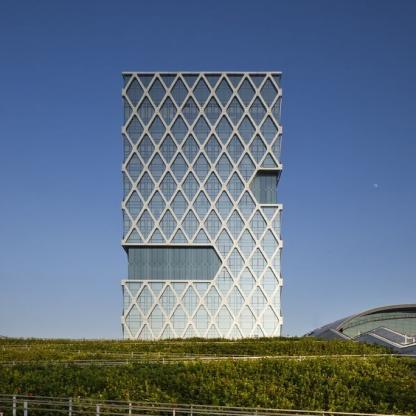Building Outline: (121, 71, 283, 340)
Facade: (121, 71, 283, 340)
Glass Wall: (128, 247, 222, 280), (249, 172, 277, 204), (125, 306, 144, 336), (226, 248, 245, 278), (136, 286, 155, 316), (181, 286, 200, 316), (159, 286, 178, 316), (215, 267, 234, 297), (260, 267, 279, 297), (170, 77, 189, 107), (136, 96, 155, 126), (181, 96, 200, 126), (125, 116, 144, 146), (170, 116, 189, 146), (226, 96, 245, 126), (125, 77, 144, 107), (193, 306, 212, 335), (170, 306, 189, 335), (215, 306, 234, 335), (215, 230, 234, 259), (260, 230, 279, 259), (125, 191, 144, 220), (170, 191, 189, 220), (125, 153, 144, 182), (170, 153, 189, 182), (181, 211, 200, 240), (136, 172, 155, 201), (181, 172, 200, 201), (136, 134, 155, 163), (181, 134, 200, 163), (226, 134, 245, 163), (136, 211, 155, 240), (249, 248, 267, 278), (204, 286, 222, 316), (249, 286, 267, 316), (226, 286, 244, 316), (238, 267, 256, 297), (148, 77, 166, 107), (193, 77, 211, 107), (237, 77, 255, 107), (215, 77, 233, 107), (204, 96, 222, 126), (249, 96, 267, 126), (148, 116, 166, 146), (193, 116, 211, 146), (260, 77, 278, 107), (215, 116, 233, 146), (159, 96, 177, 126), (237, 116, 255, 146), (260, 116, 278, 146), (260, 306, 278, 335), (148, 306, 166, 335), (238, 306, 256, 335), (238, 230, 256, 259), (249, 211, 267, 240), (148, 191, 166, 220), (193, 191, 211, 220), (237, 191, 255, 220), (215, 191, 233, 220), (148, 153, 166, 182), (193, 153, 211, 182), (237, 153, 255, 182), (215, 153, 233, 182), (159, 211, 177, 240), (204, 211, 222, 240), (226, 211, 244, 240), (159, 172, 177, 201), (204, 172, 222, 201), (226, 172, 244, 201), (204, 134, 222, 163), (249, 134, 267, 163), (159, 134, 177, 163), (271, 248, 282, 279), (271, 211, 282, 241), (271, 134, 282, 164), (271, 96, 282, 126), (271, 286, 282, 316), (122, 209, 132, 239), (122, 171, 132, 201), (122, 133, 132, 163), (122, 286, 132, 316), (122, 96, 132, 126), (260, 207, 279, 222), (181, 324, 200, 339), (159, 324, 178, 339), (260, 153, 279, 168), (170, 228, 189, 243), (125, 228, 144, 243), (204, 324, 223, 339), (226, 324, 245, 339), (170, 282, 189, 297), (159, 74, 178, 89), (137, 74, 156, 89), (125, 282, 144, 297), (226, 74, 245, 89), (181, 74, 200, 89), (249, 324, 267, 339), (148, 228, 166, 243), (193, 228, 211, 243), (148, 282, 166, 297), (249, 74, 267, 89), (204, 74, 222, 89), (193, 282, 211, 297), (136, 325, 155, 339), (271, 325, 282, 339), (271, 74, 281, 89), (122, 74, 132, 89), (122, 325, 132, 339)
Window: (121, 245, 223, 280), (249, 169, 282, 204)
